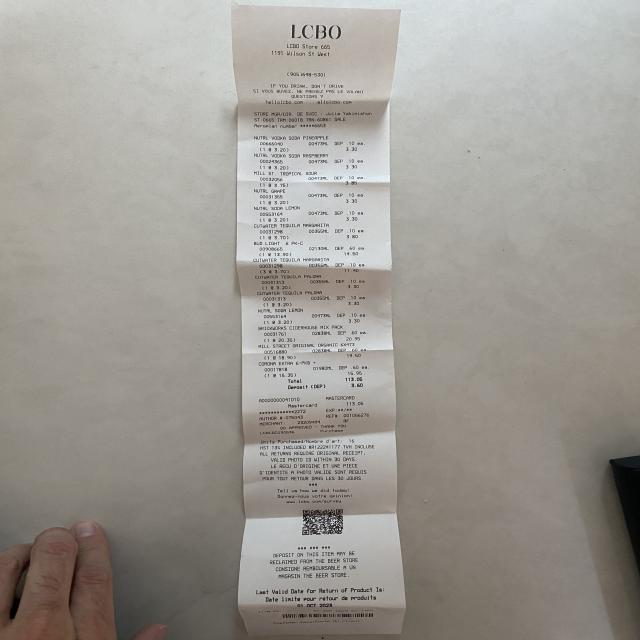item: (252, 306, 369, 325), (255, 324, 369, 343), (250, 223, 368, 241), (251, 240, 369, 258), (251, 258, 369, 276), (251, 274, 369, 292), (251, 170, 368, 188), (252, 290, 369, 308), (251, 134, 367, 152), (251, 153, 367, 171), (255, 360, 371, 378), (255, 342, 370, 360), (250, 188, 369, 205), (251, 205, 369, 222)
store_name: (288, 22, 344, 42)
total_amount: (285, 376, 367, 384)
